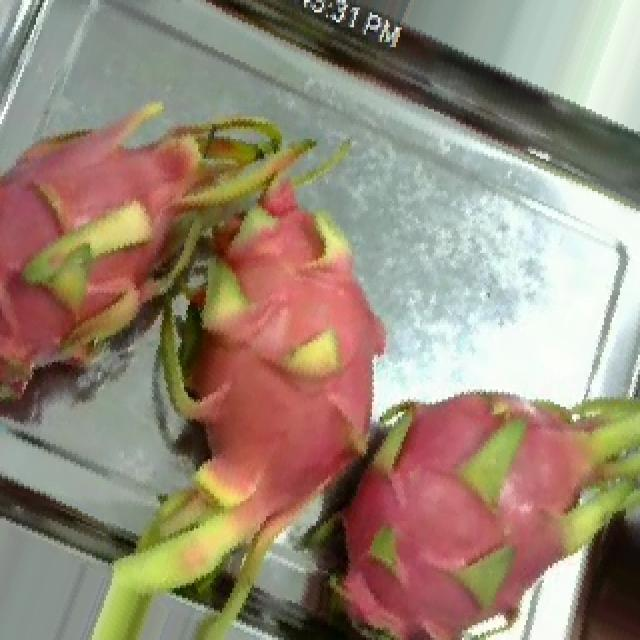Fruit: (560, 496, 640, 638)
